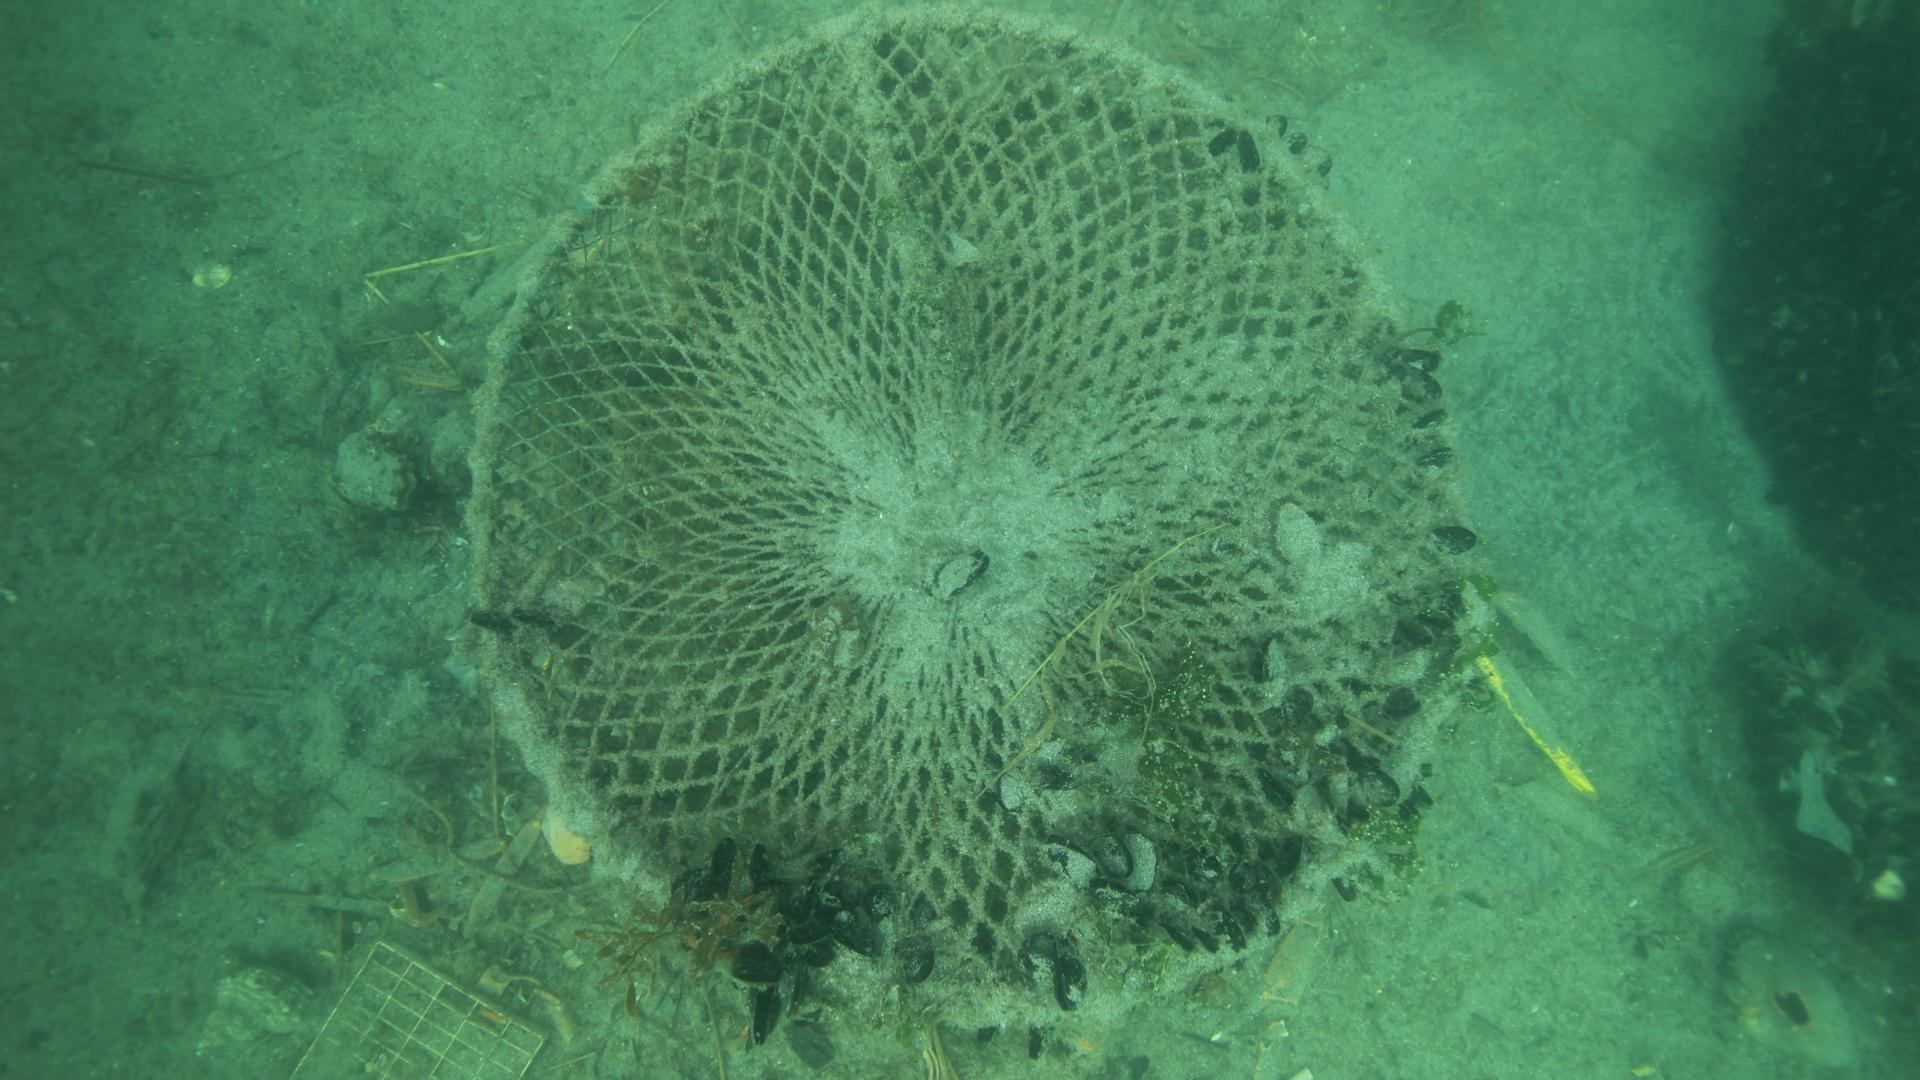circular fish trap: (468, 3, 1472, 1011)
